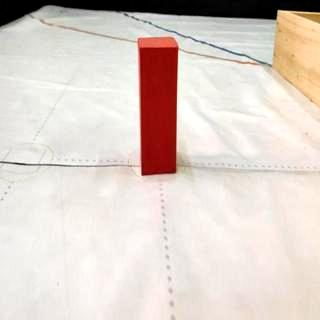redbox: (138, 36, 178, 174)
